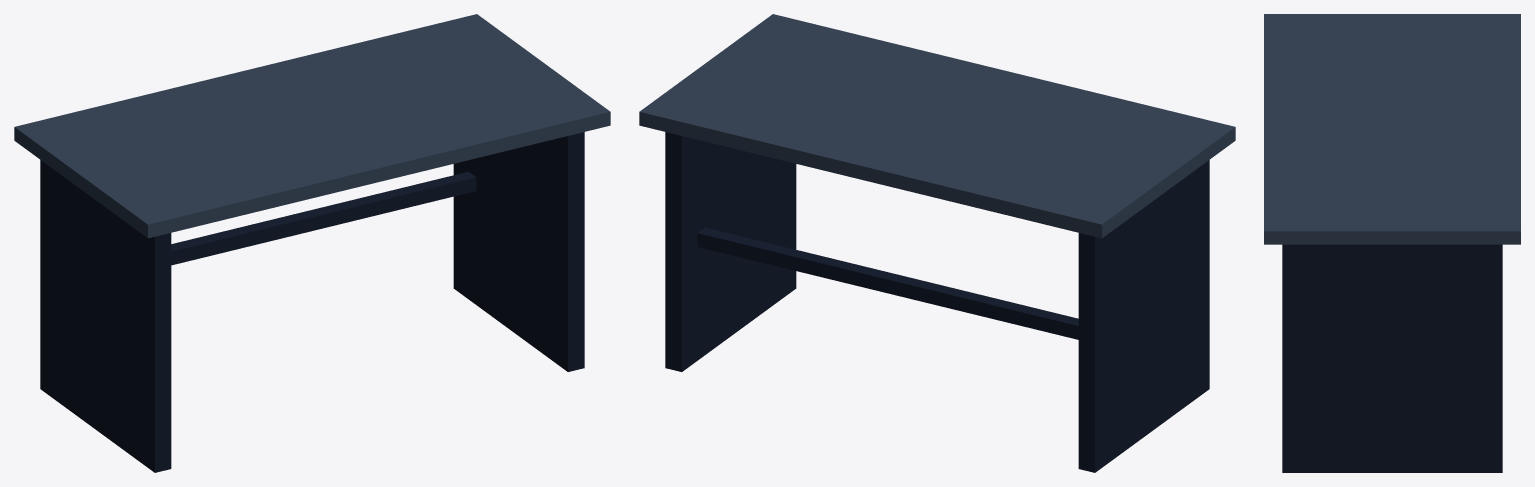
File: desk.glb
3 renders of one model, left to right at view 1: azimuth 30°, elevation 25°; view 2: azimuth 150°, elevation 25°; view 3: azimuth 270°, elevation 25°, orthographic. The views are drawn at different scales.
Parts seen in each view (by area): view 1: ErgonomicStudyDesk; view 2: ErgonomicStudyDesk; view 3: ErgonomicStudyDesk.
Boxes of the visible parts, x1,y1,x2,y2 form: ErgonomicStudyDesk: (14, 14, 610, 472); ErgonomicStudyDesk: (639, 14, 1235, 472); ErgonomicStudyDesk: (1264, 14, 1520, 472).
Bounding box in the file's own units: 1.4 × 0.75 × 0.7.
